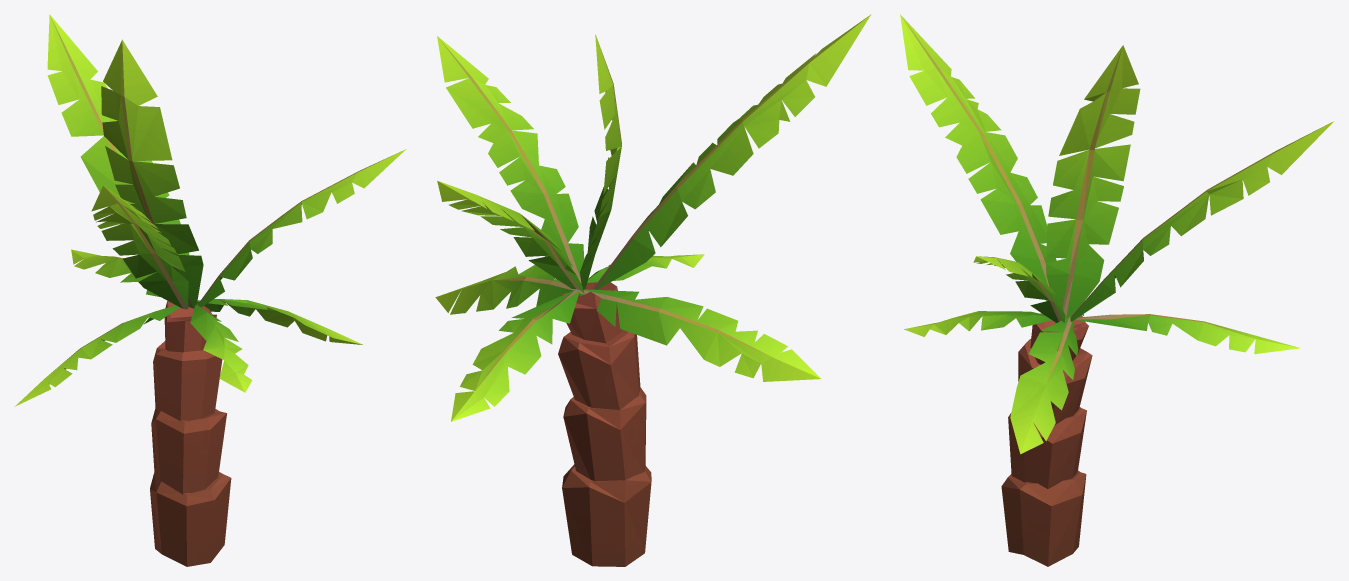
3 views of the same model, side by side, from view 1: azimuth 30°, elevation 25°; view 2: azimuth 150°, elevation 25°; view 3: azimuth 270°, elevation 25° (orthographic). The views are drawn at different scales.
Visible parts, largest first — view 1: Palm3_Small; view 2: Palm3_Small; view 3: Palm3_Small.
Boxes of the visible parts, x1,y1,x2,y2 form: Palm3_Small: (14, 14, 406, 566); Palm3_Small: (435, 14, 871, 566); Palm3_Small: (900, 14, 1333, 566).
Size of the model in its own units: 3.41 by 4.4 by 3.51.
Materials: 1 (1 with a texture image).
